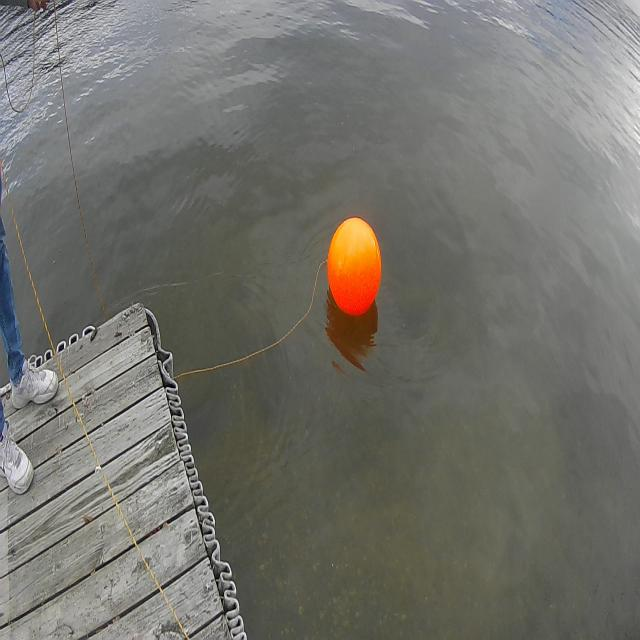Buoy: (322, 208, 384, 326)
